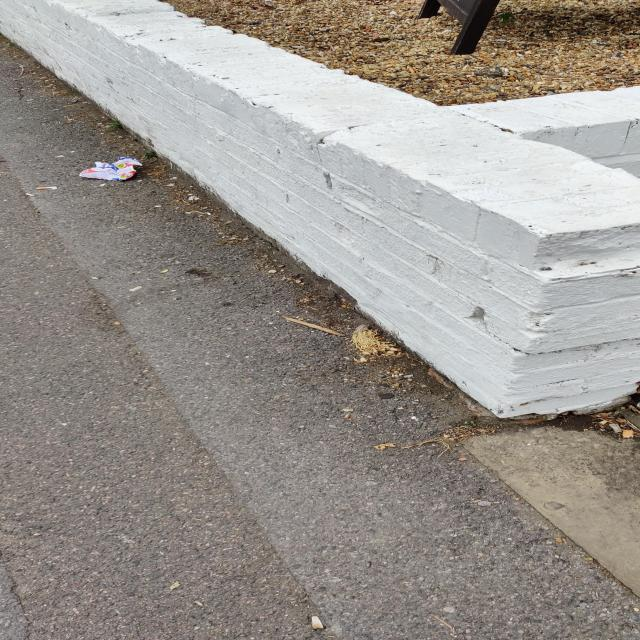litter: (80, 157, 140, 180), (129, 286, 142, 292), (37, 187, 56, 190)
